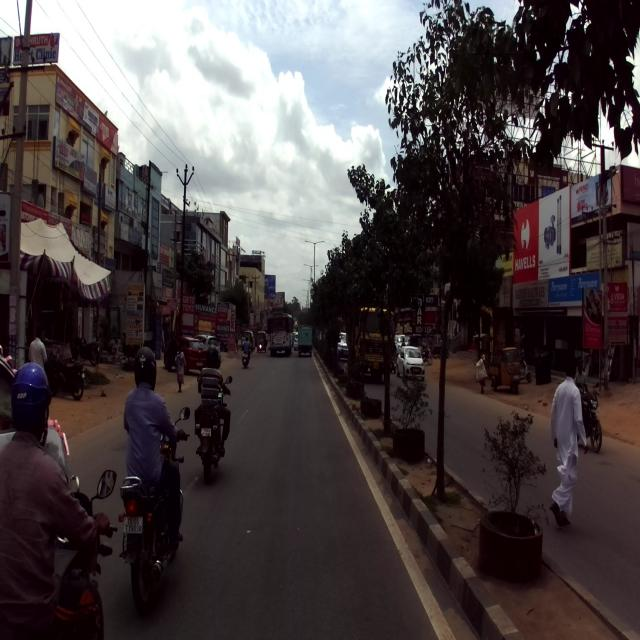Car_Toyota: (0, 343, 70, 520)
motorcycle_Hero: (0, 466, 117, 639), (118, 406, 190, 614), (195, 374, 232, 483), (571, 381, 602, 452)
